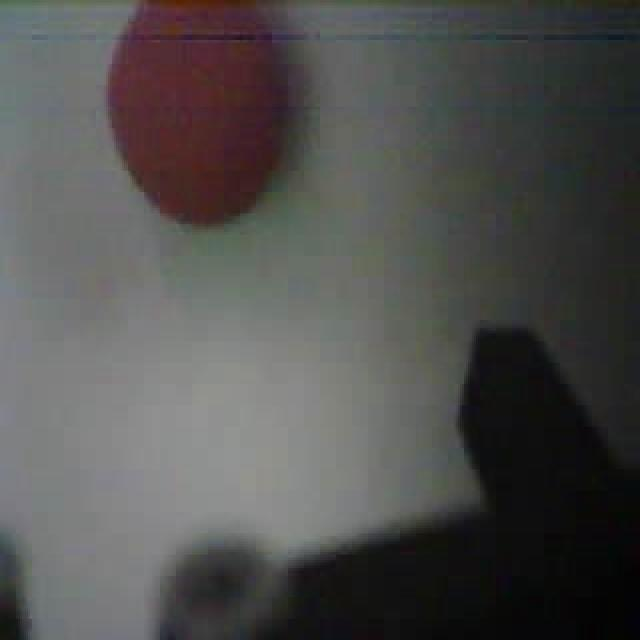red_ball: (102, 0, 296, 229)
